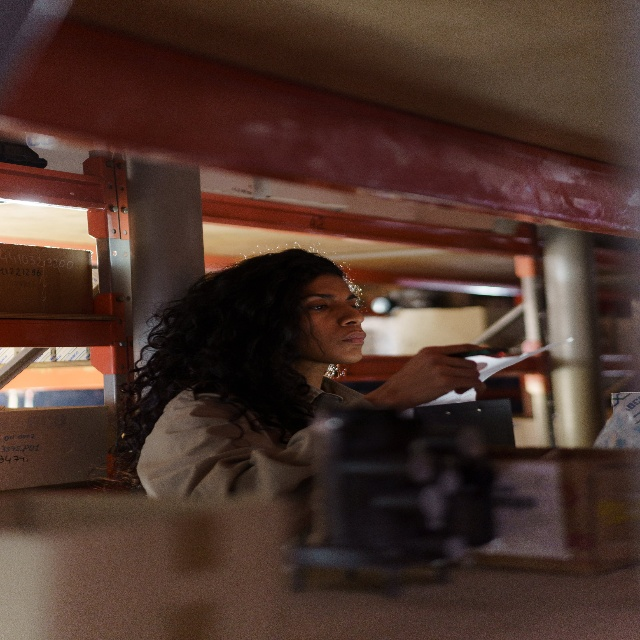Sin_guantes: (387, 341, 483, 410)
